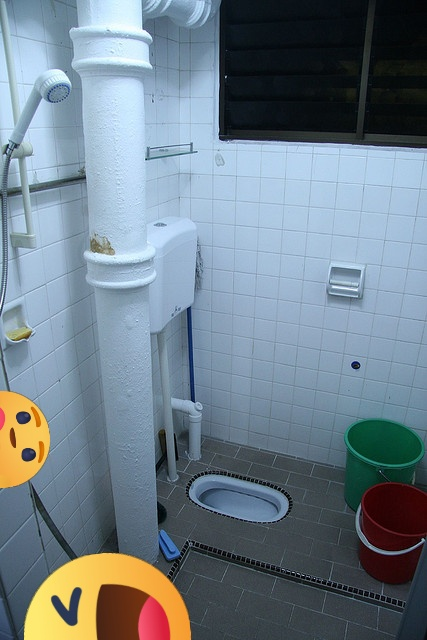care: (0, 391, 50, 488)
haha: (24, 553, 191, 640)
